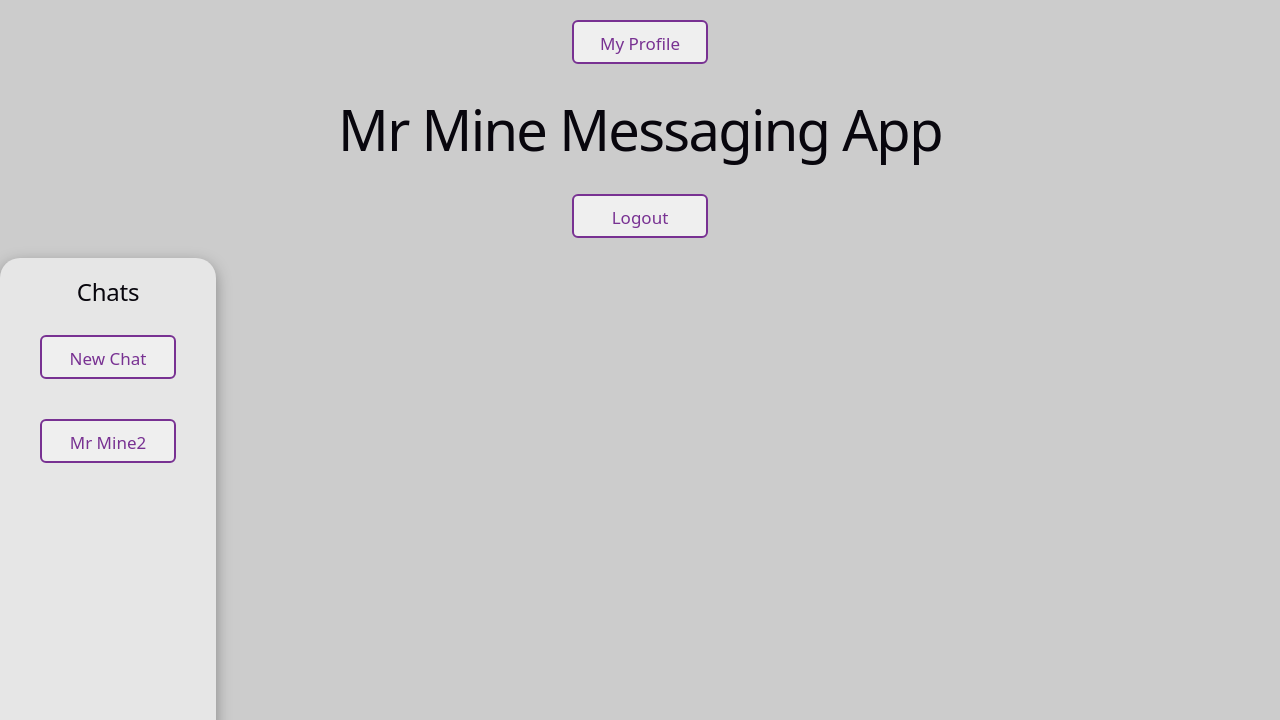
Test: Home component › opens profile when clicked in messages
Click the button "Mr Mine2" at {"x": 108, "y": 441}, box [40,419,176,463]
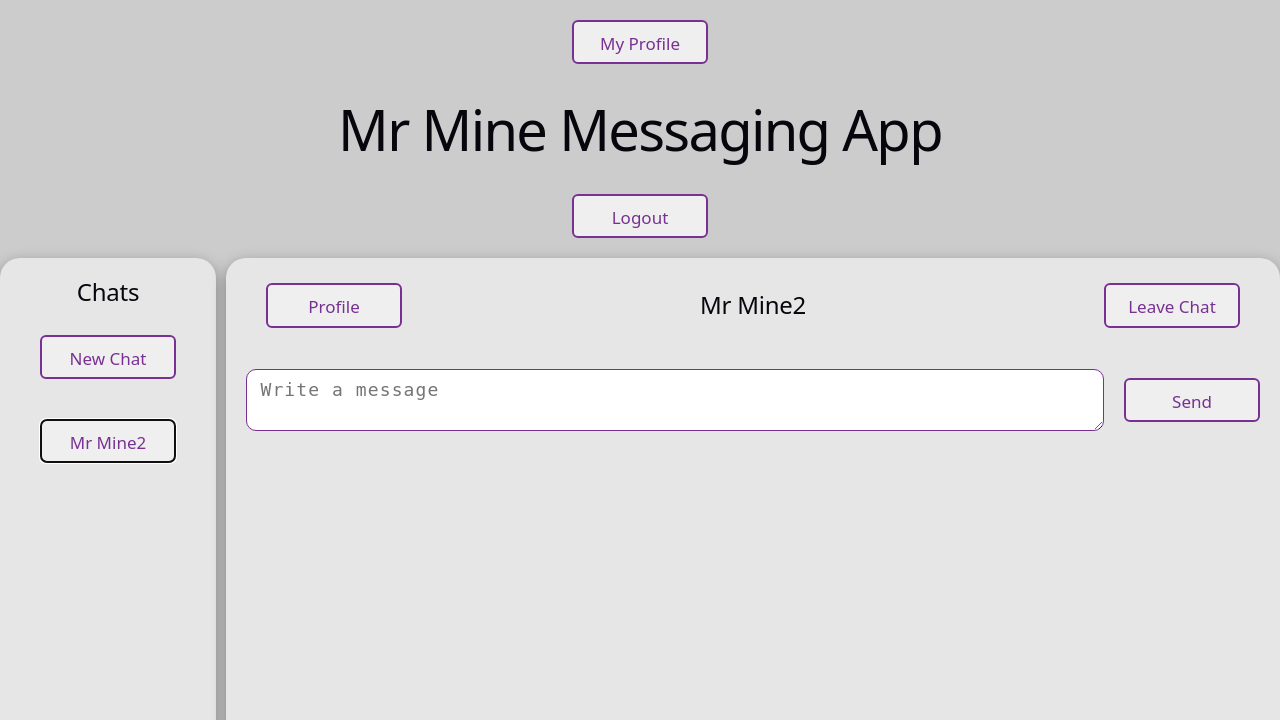
Click the button "Profile" at {"x": 334, "y": 306}, box [266,284,402,328]
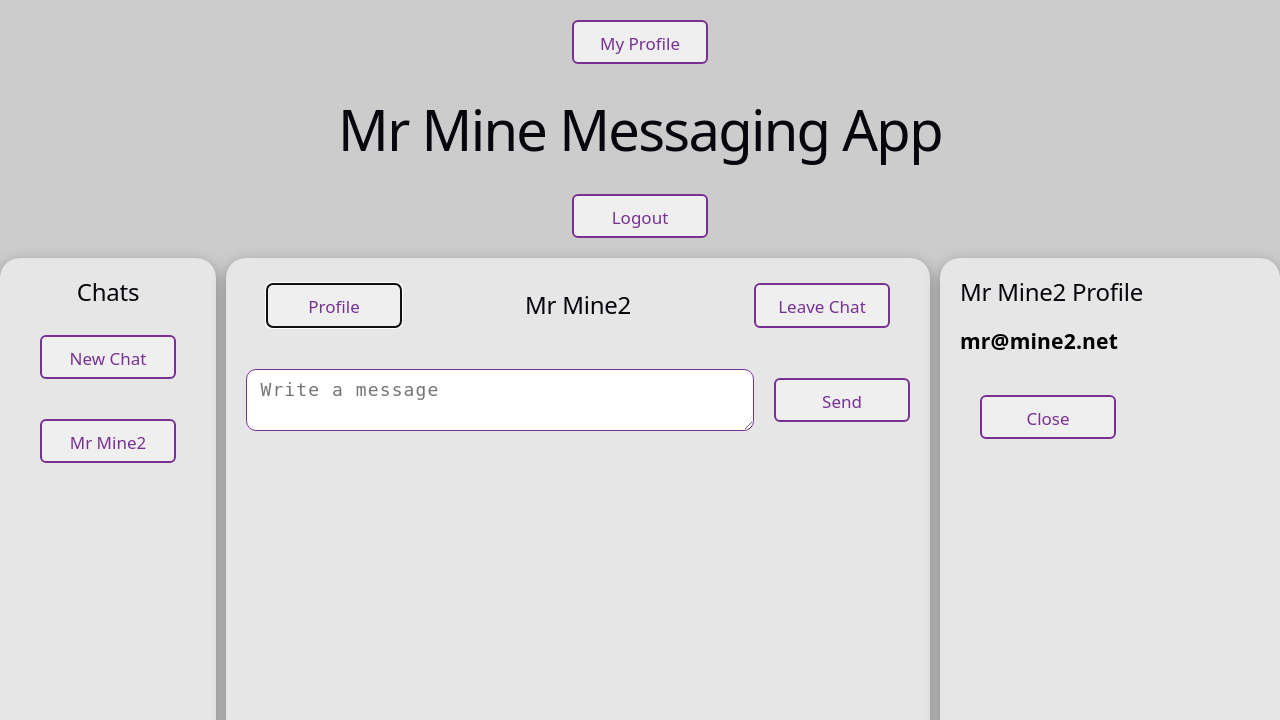
Check: the heading "Mr Mine2 Profile" is shown, box [960,276,1143,308]
